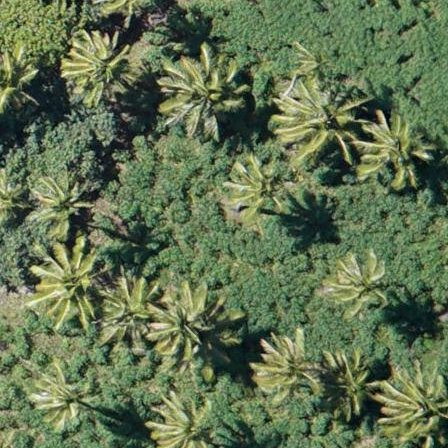palm_tree: (372, 355, 448, 443), (254, 328, 332, 411), (31, 245, 104, 329), (153, 287, 229, 365), (280, 82, 355, 155), (163, 53, 235, 129), (323, 247, 396, 319), (359, 117, 427, 186), (227, 156, 293, 224), (98, 278, 157, 348), (65, 34, 128, 99), (30, 172, 93, 233), (33, 370, 91, 431), (151, 396, 217, 448)
